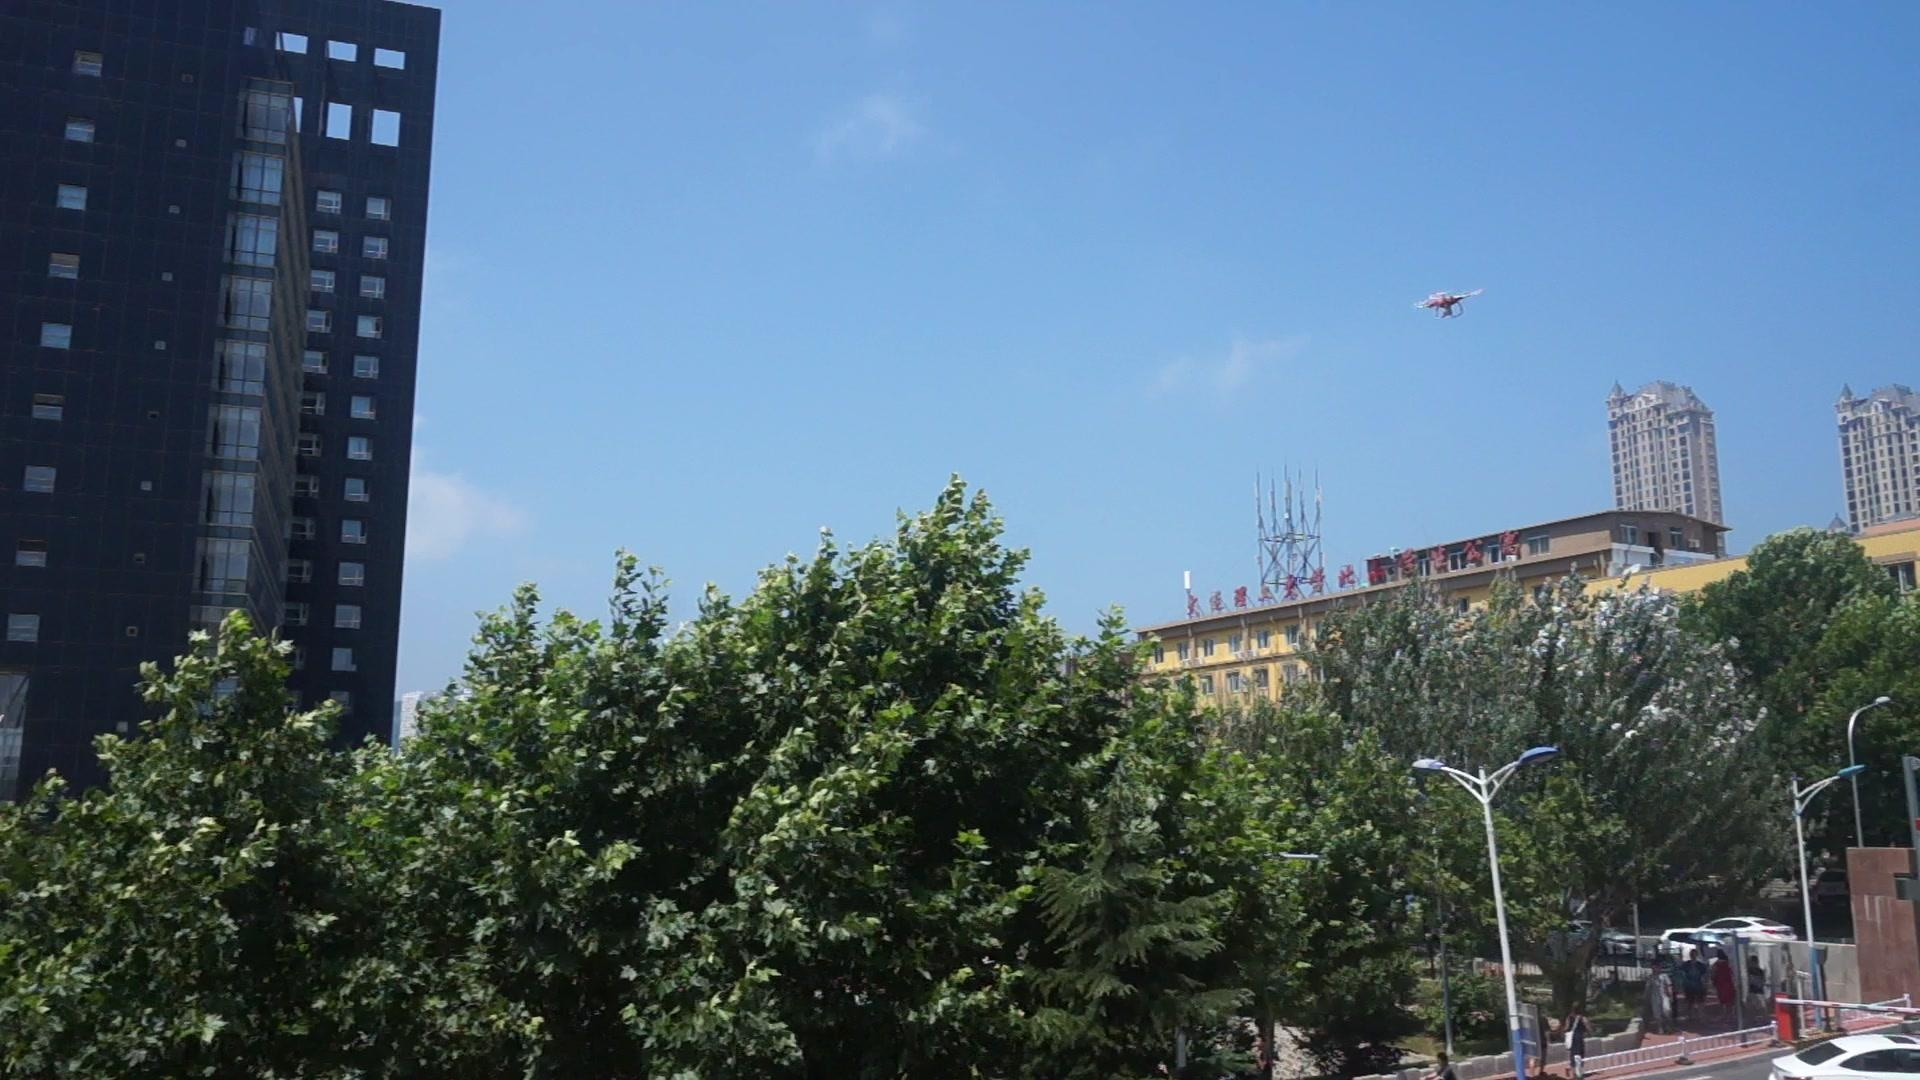UAV: (1412, 289, 1487, 320)
